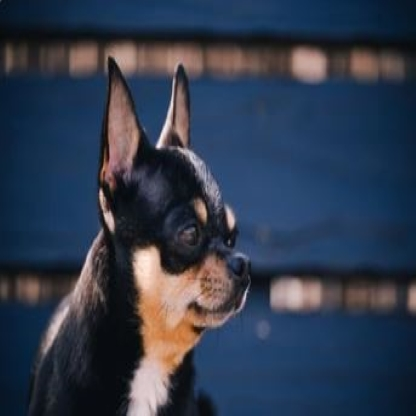chihuahua: (22, 54, 255, 415)
